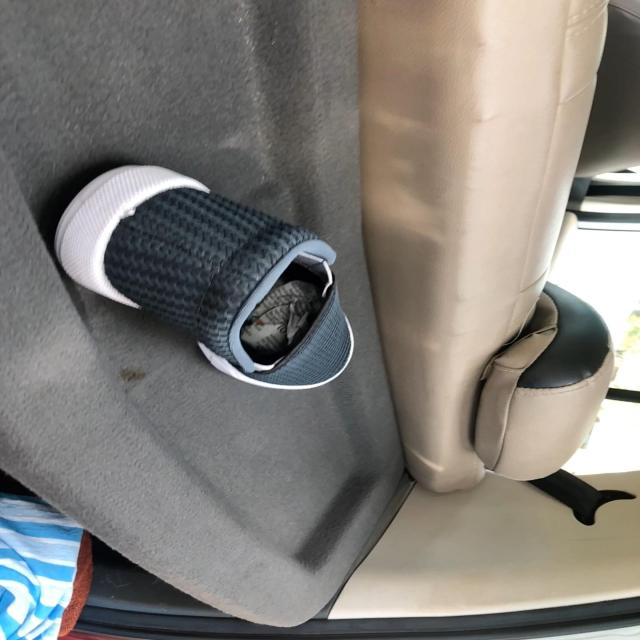shoe: (51, 165, 355, 393)
